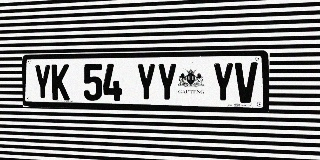4: (103, 63, 122, 101)
5: (84, 64, 102, 101)
K: (51, 64, 69, 100)
V: (235, 62, 257, 103)
Y: (212, 62, 234, 103), (136, 63, 156, 102), (157, 63, 177, 102), (34, 64, 51, 100)
